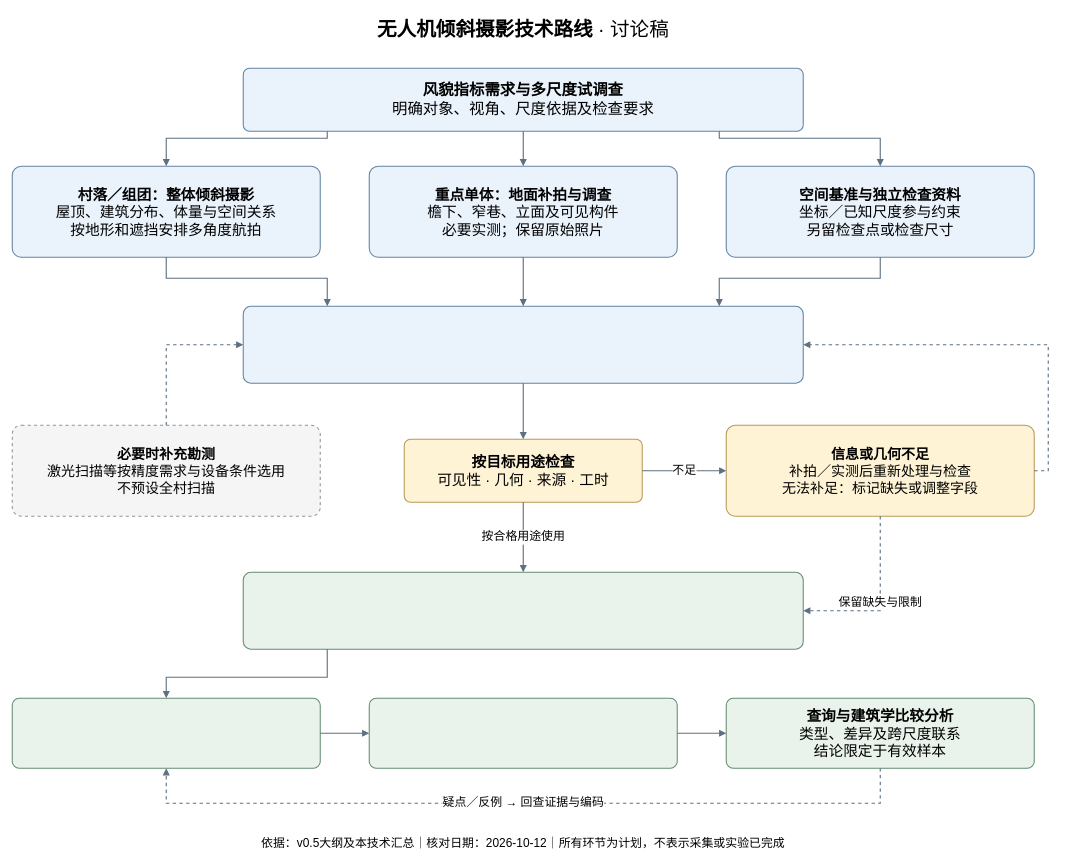
Some shapes in this 1067 by 867 pixel diagram are drawn without their labels. The shapes that lost their labels are listed below. From the top down, each one's centre as x and y in pixels, then its label:
At pixel 522 344: "摄影测量重建与空地资料衔接 SfM → MVS → 点云／网格与纹理 统一基准；保留原始数据、版本及处理记录".
At pixel 522 610: "经检查的分层研究资料 可量测资料 · 定性判读资料 · 缺失与限制记录 模型视图、原始照片与实测依据保持关联".
At pixel 165 732: "三级风貌特征提取与编码 村落—组团—单体 实例ID、取值、来源与状态".
At pixel 522 732: "知识图谱组织与校核 实体—属性—关系 特征事实可回查原始证据".
